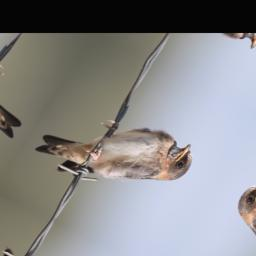Swallow: (29, 85, 204, 222)
